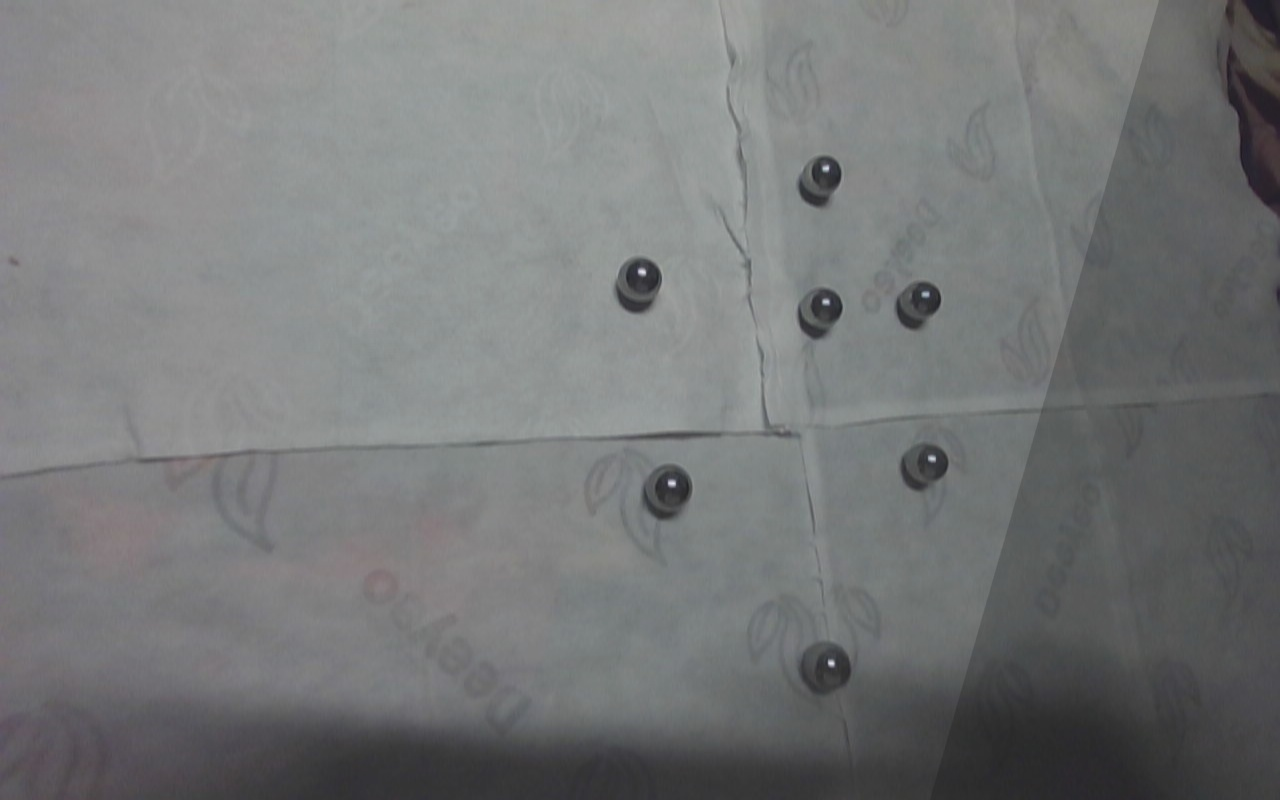ball: (799, 638, 854, 697), (643, 461, 695, 516), (617, 251, 664, 306), (903, 440, 953, 491), (797, 284, 846, 334), (799, 152, 847, 201), (897, 278, 947, 325)
